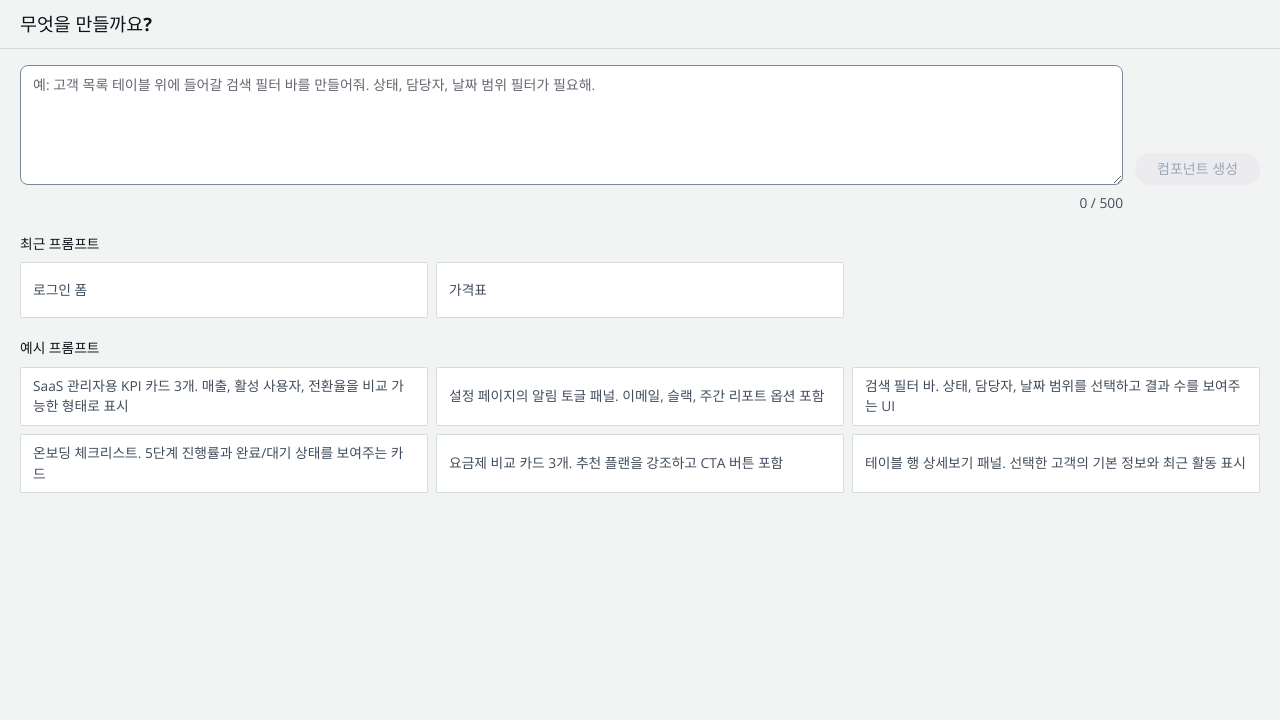
Test: PromptInput › 프롬프트 히스토리 › history 항목을 버튼으로 보여주고 클릭하면 입력창에 채운다
What coordinates should you click on to do the following:
click the button "로그인 폼"
I would click on:
 (60, 289)
Its box is [20,262,428,318].
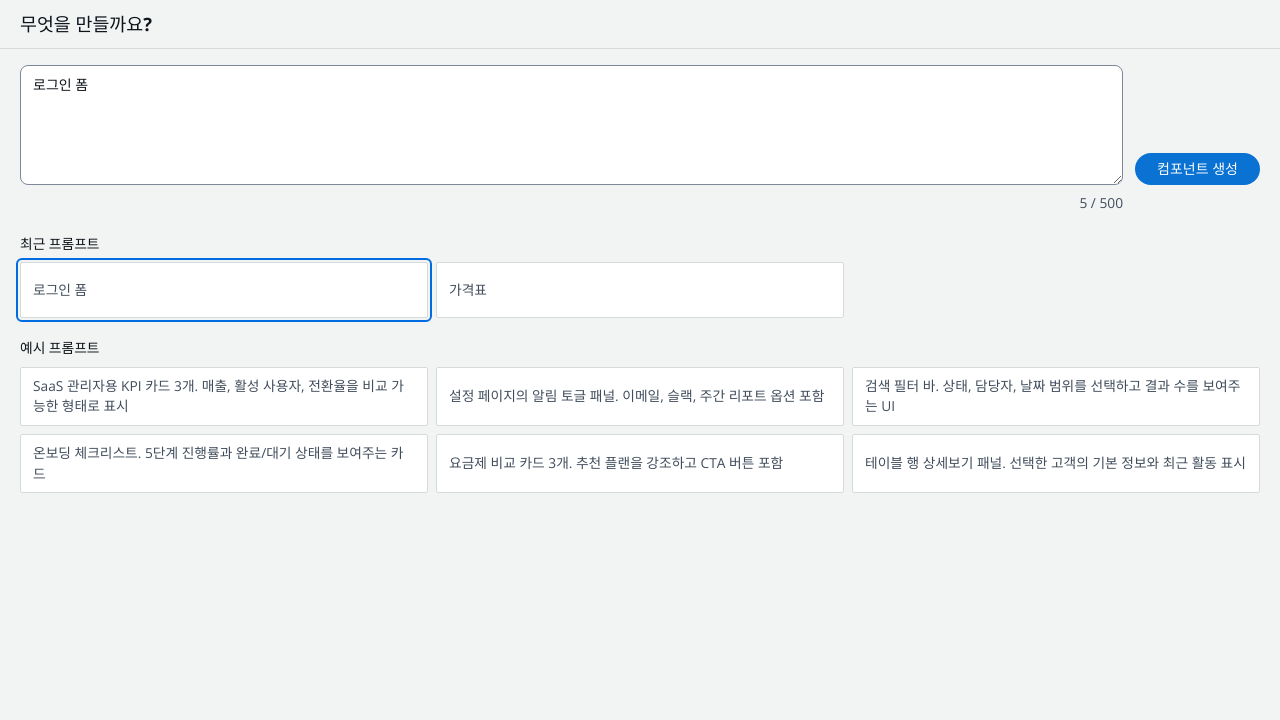
expect the button "가격표" is shown: met, box [436,262,844,318]
expect the text box holds "로그인 폼": met, box [20,65,1123,185]
